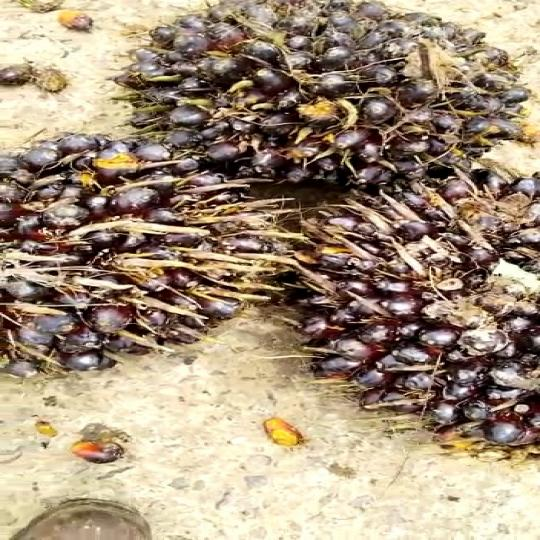mentah: (108, 0, 539, 199), (285, 161, 540, 470), (0, 122, 291, 382)
